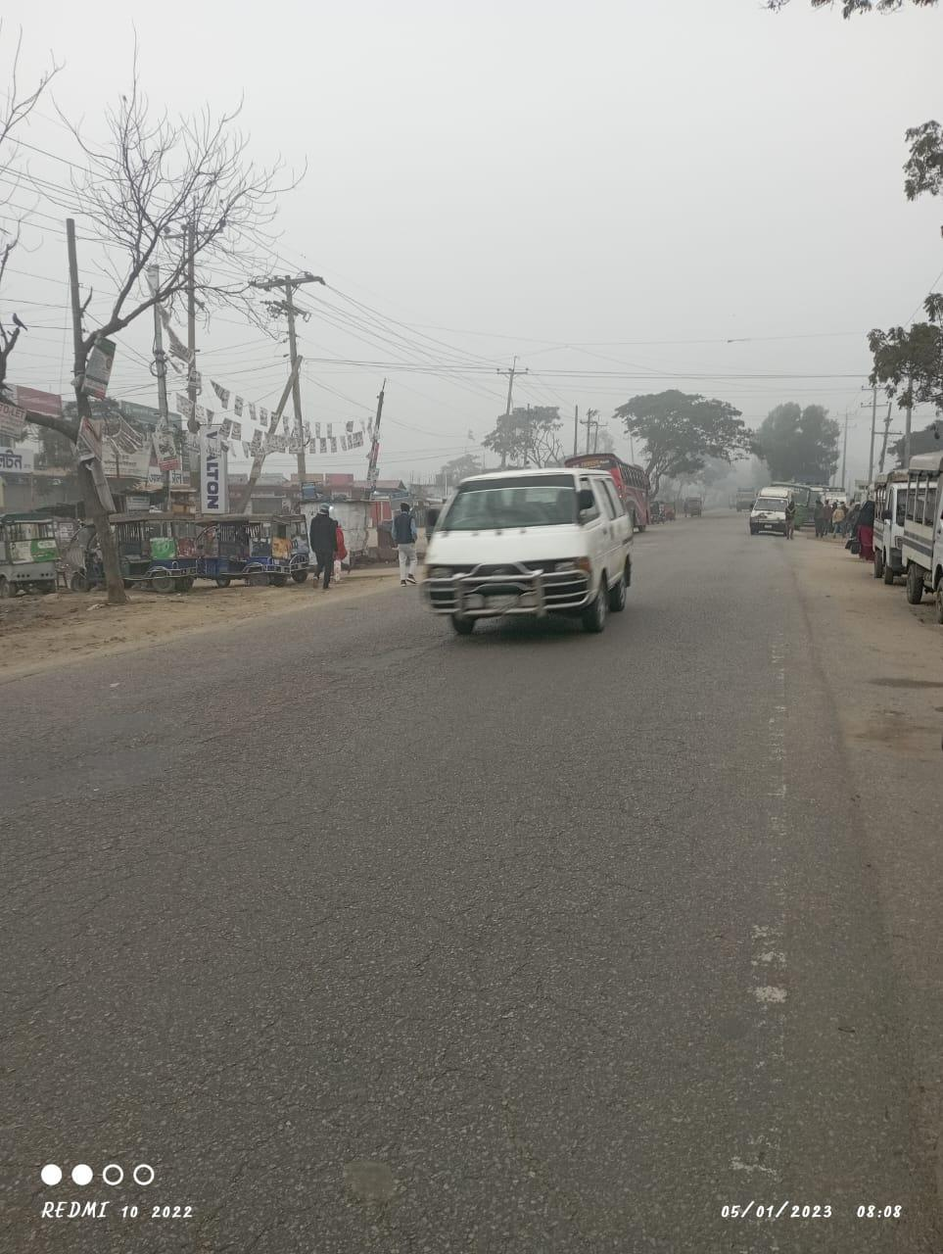Bus: (561, 446, 670, 530)
Car: (409, 454, 639, 636), (203, 506, 326, 592), (76, 511, 197, 593), (744, 477, 804, 548)
